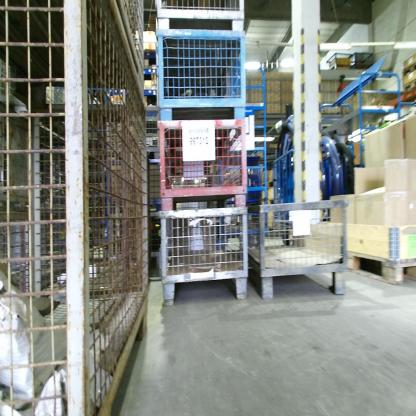pallet: (338, 239, 415, 293)
stillage: (0, 0, 148, 416), (249, 198, 349, 301), (161, 206, 248, 310), (158, 29, 248, 123), (158, 119, 248, 209), (105, 1, 146, 96), (153, 1, 245, 31), (145, 150, 168, 210)
